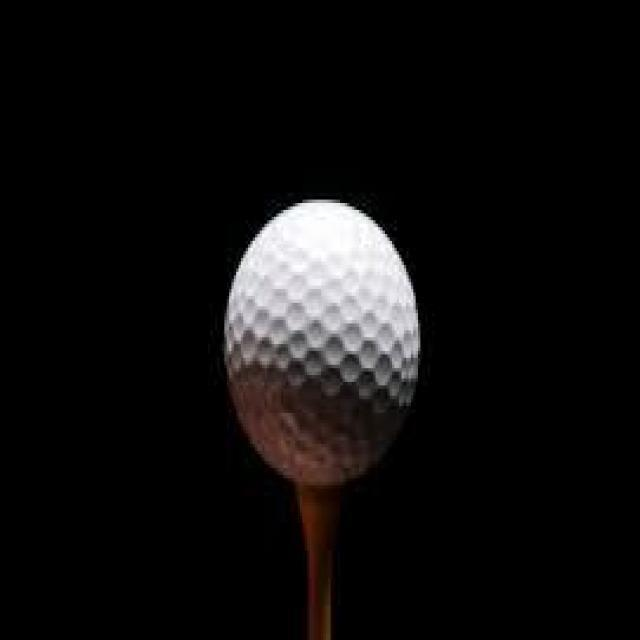golfball: (208, 196, 428, 489)
